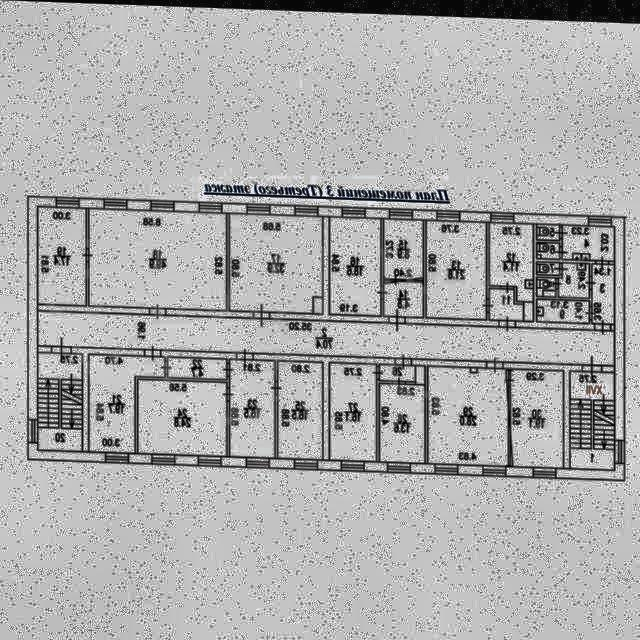room: (37, 311, 615, 362), (86, 207, 228, 308), (230, 211, 323, 311), (425, 362, 510, 461), (86, 353, 165, 453), (136, 379, 227, 453), (426, 217, 485, 315), (512, 365, 564, 463), (329, 214, 380, 312), (330, 358, 377, 458), (229, 357, 275, 456), (39, 206, 85, 305), (278, 358, 322, 456), (570, 367, 614, 465), (39, 352, 82, 450), (380, 380, 424, 459), (490, 219, 532, 297), (384, 215, 423, 276), (562, 220, 616, 255), (384, 278, 424, 313), (168, 356, 227, 378), (537, 294, 590, 318), (593, 259, 614, 318), (489, 284, 524, 317), (558, 258, 590, 293), (381, 361, 416, 377), (537, 238, 560, 254), (537, 273, 556, 292), (537, 220, 560, 235), (537, 258, 560, 270)
